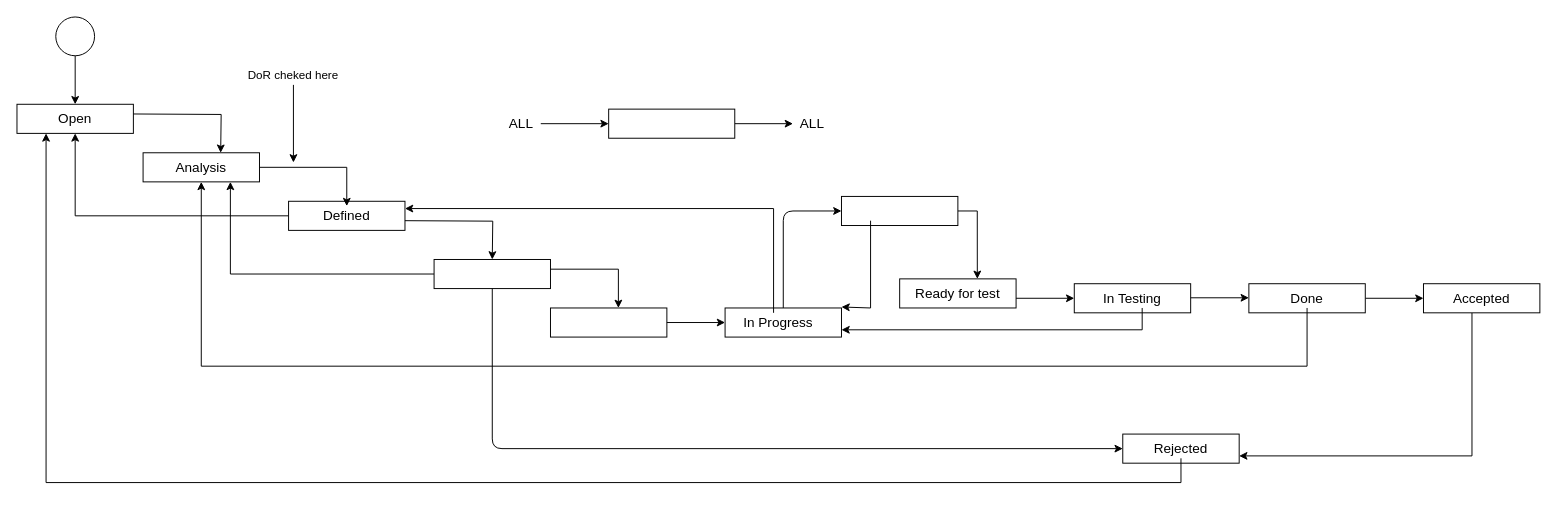
The diagram is 1557 pixels wide and 507 high, and some of its shapes have lost their labels. Each missing label, with the centre of its shape:
Blocked: the point at 671,123
Code Review: the point at 899,210
DEV Ready: the point at 608,322
PO Acceptance: the point at 491,274
